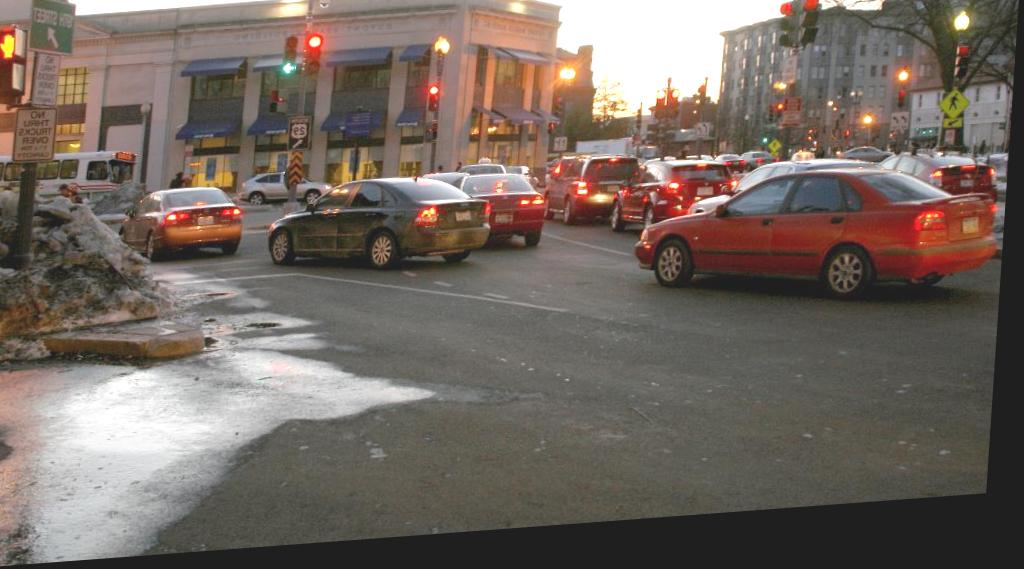License_Plate: (963, 217, 982, 232), (455, 210, 475, 221), (198, 214, 217, 225), (497, 212, 513, 223), (697, 187, 714, 196), (608, 184, 620, 191)
